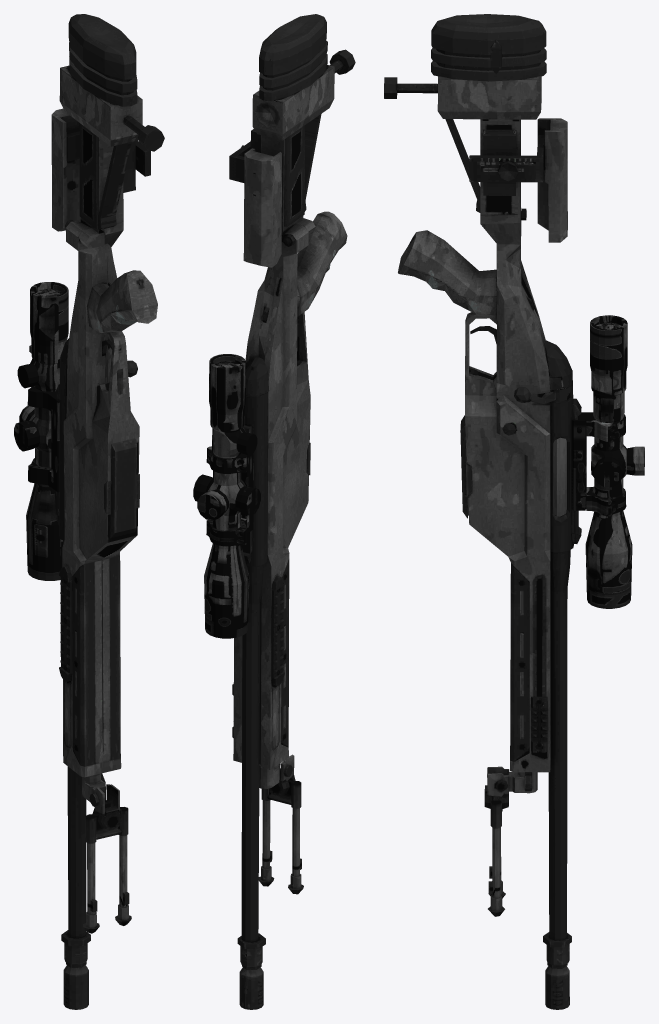
File: w_snip_ssg08.obj
3 renders of one model, left to right at view 1: azimuth 30°, elevation 25°; view 2: azimuth 150°, elevation 25°; view 3: azimuth 270°, elevation 25°, orthographic. The views are drawn at different scales.
Bounding box in the file's own units: 0.0374 × 0.4942 × 0.1191.
1 material, 1 textured.
